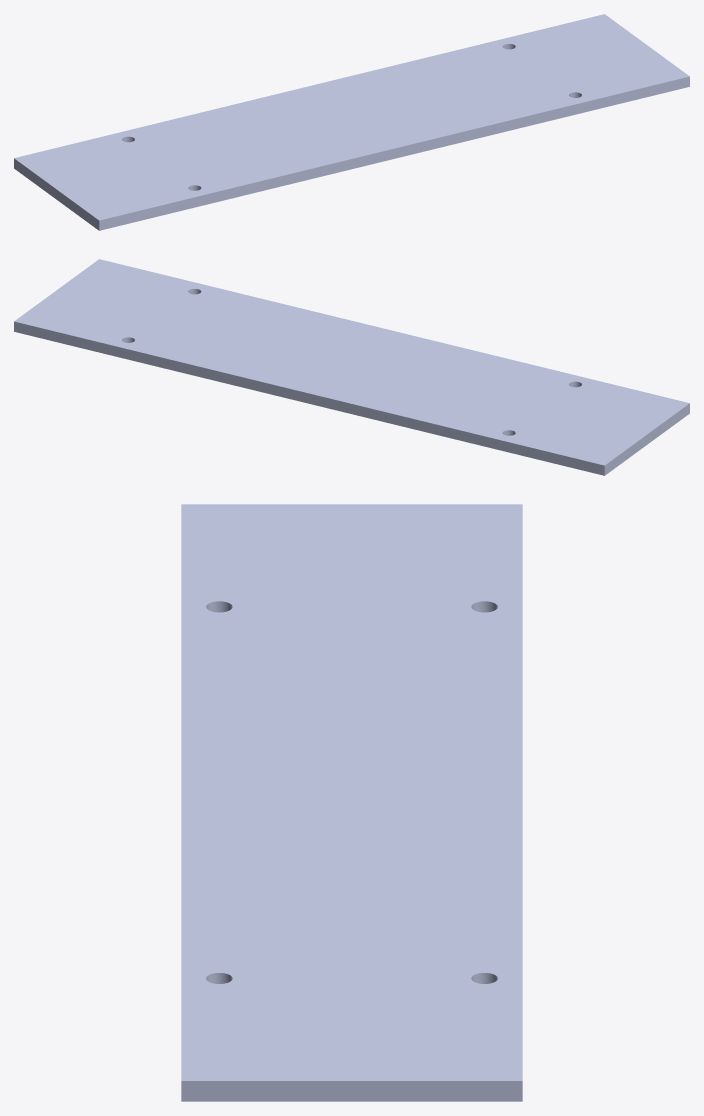
The model's file is devant_TT_WAKANDA_1_2.dae.
The picture shows the model from 3 angles, top to bottom: view 1: azimuth 30°, elevation 25°; view 2: azimuth 150°, elevation 25°; view 3: azimuth 270°, elevation 25°; orthographic projection. The views are drawn at different scales.
Parts seen in each view (by area): view 1: node0; view 2: node0; view 3: node0.
Boxes of the visible parts, bbox=[...] form: node0: bbox=[14, 14, 689, 230]; node0: bbox=[14, 259, 689, 475]; node0: bbox=[181, 504, 522, 1101].
Bounding box in the file's own units: 0.18 × 0.003 × 0.045.
